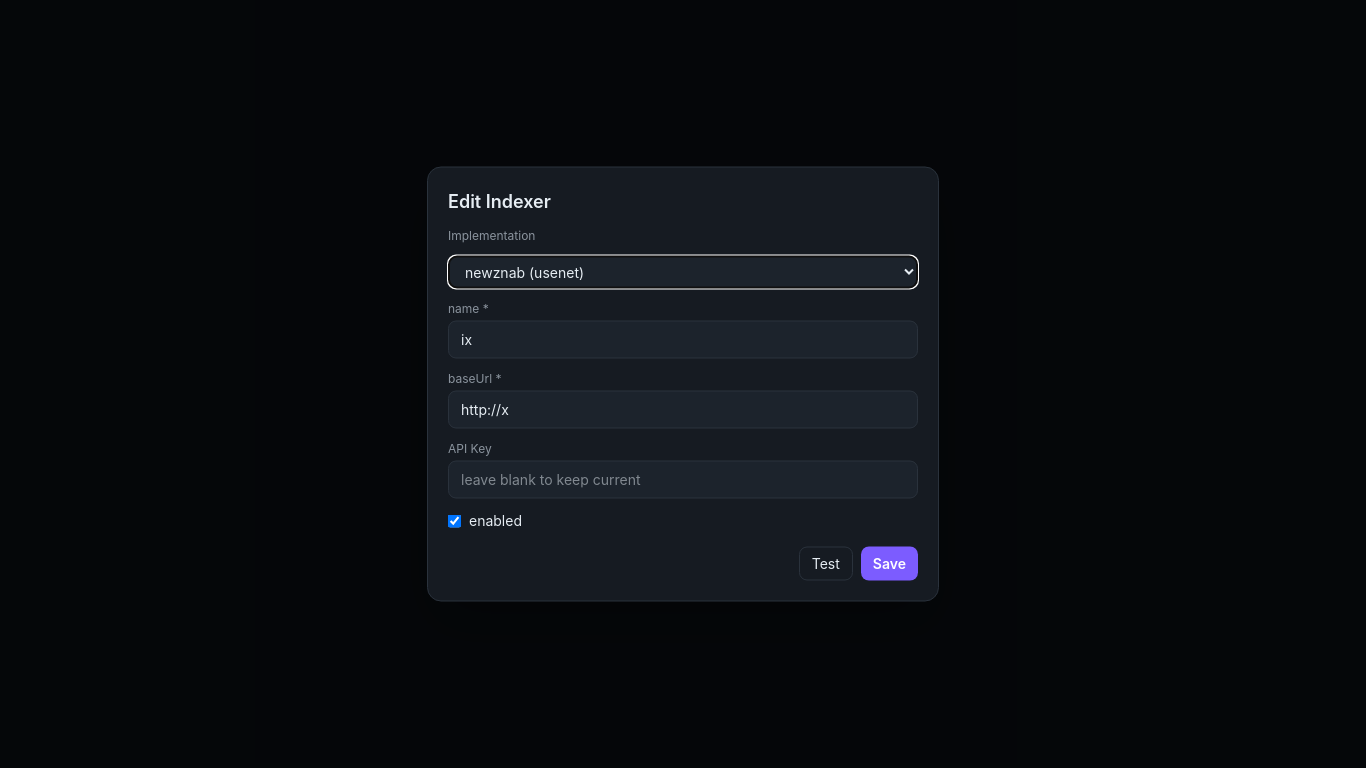
ConnectionDialog › tests the SAVED endpoint when editing with untouched secret and shows the error
Click the button "Test": (826, 564) [799,546,853,580]
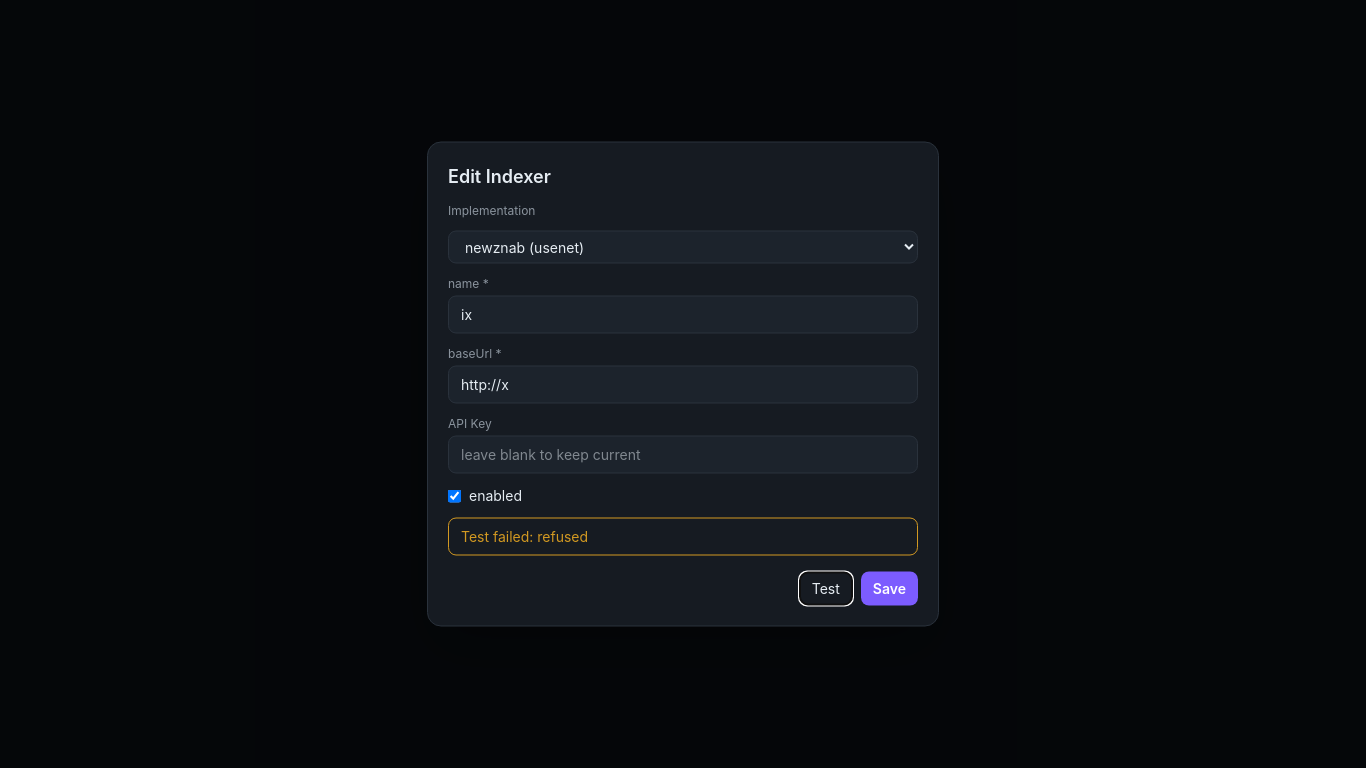
Expected: the text "Test failed: refused" is shown, [448,518,918,556]
